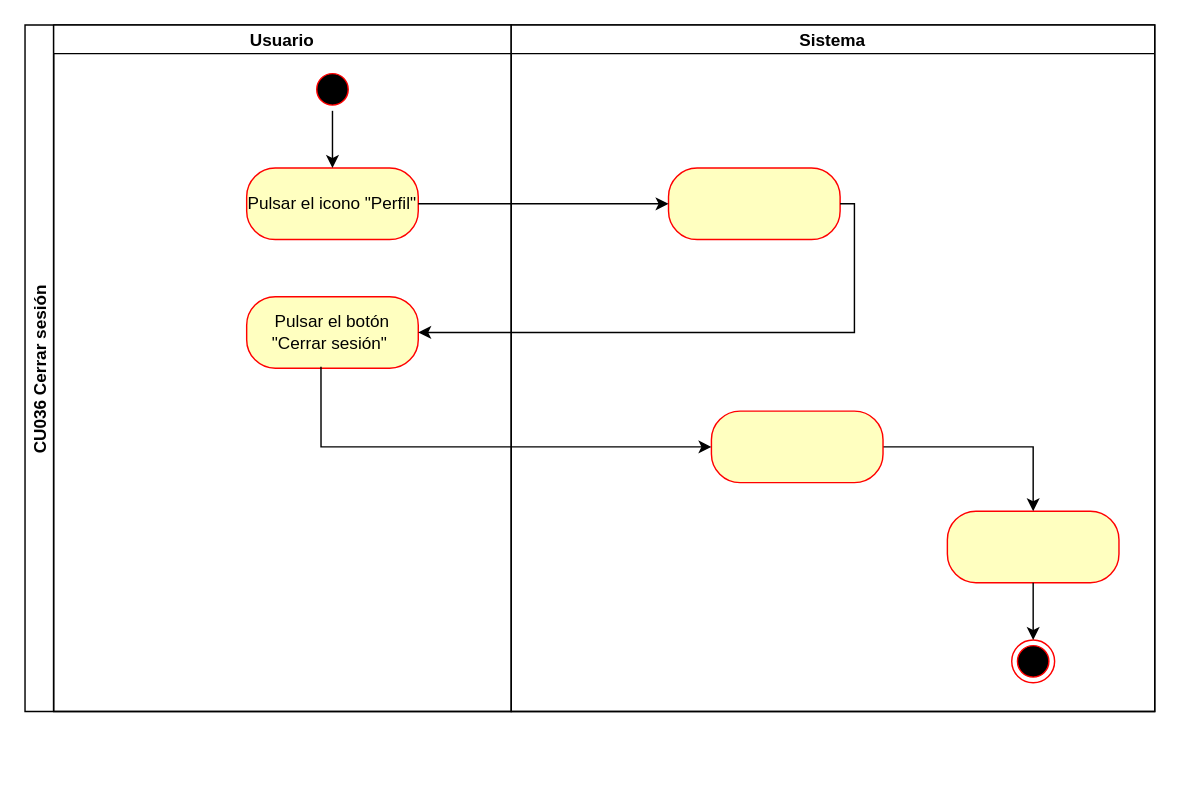
Image size: 1180x791. Some labels were removed from this diagram. The box of each missing label's shape, as (x1, y1, x2, y2) in pixels:
Cerrar la sesión del usuario: (710, 410, 883, 483)
Mostrar opciones de perfil: (667, 167, 840, 240)
Redirigirá a la pestaña inicial sin inicio de sesión: (946, 510, 1119, 583)
